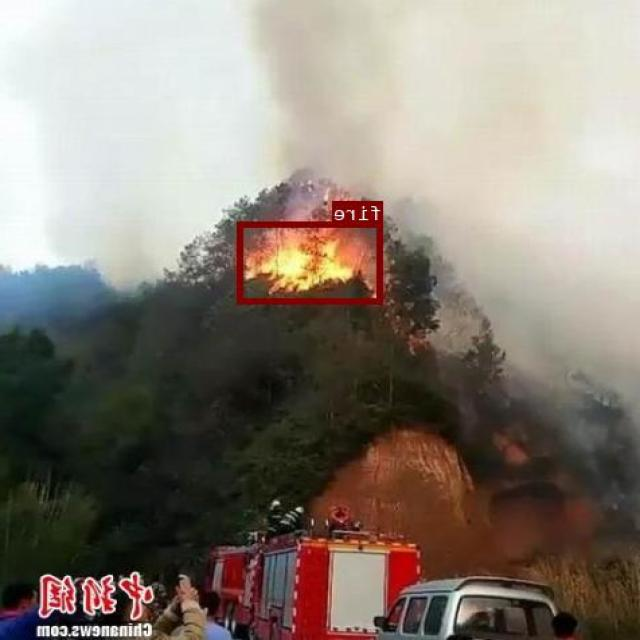fire: (239, 221, 384, 302)
